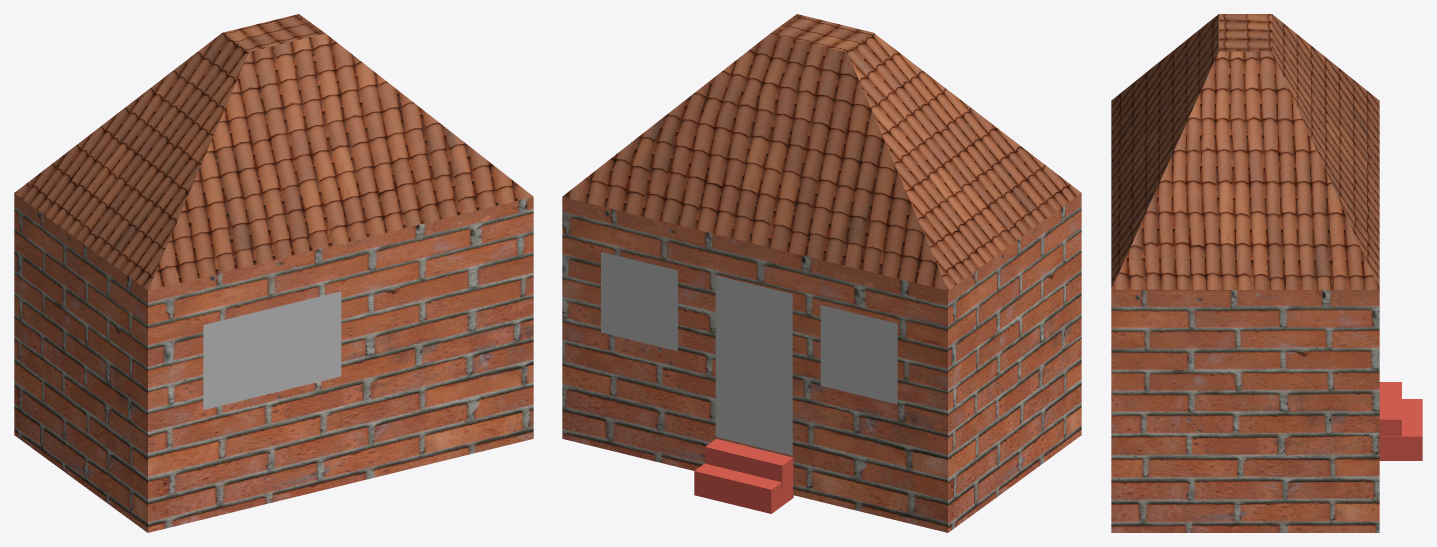
The model's file is home1.fbx.
The picture shows the model from 3 angles, left to right: view 1: azimuth 30°, elevation 25°; view 2: azimuth 150°, elevation 25°; view 3: azimuth 270°, elevation 25°; orthographic projection.
Visible parts, largest first — view 1: HomeRoot, Window3; view 2: HomeRoot, Door, Window2, Window1, Stair1, Stair2; view 3: HomeRoot, Stair1, Stair2.
Part boxes in pixels (<box>): HomeRoot: <box>14,14,533,532</box>; Window3: <box>203,291,341,409</box>; HomeRoot: <box>562,14,1081,532</box>; Door: <box>715,275,792,455</box>; Window2: <box>820,305,897,404</box>; Window1: <box>601,252,677,351</box>; Stair1: <box>694,463,793,513</box>; Stair2: <box>705,439,793,489</box>; HomeRoot: <box>1111,14,1379,532</box>; Stair1: <box>1379,399,1422,460</box>; Stair2: <box>1379,382,1401,436</box>.
Size of the model in its own units: 1000 by 1008 by 698.
